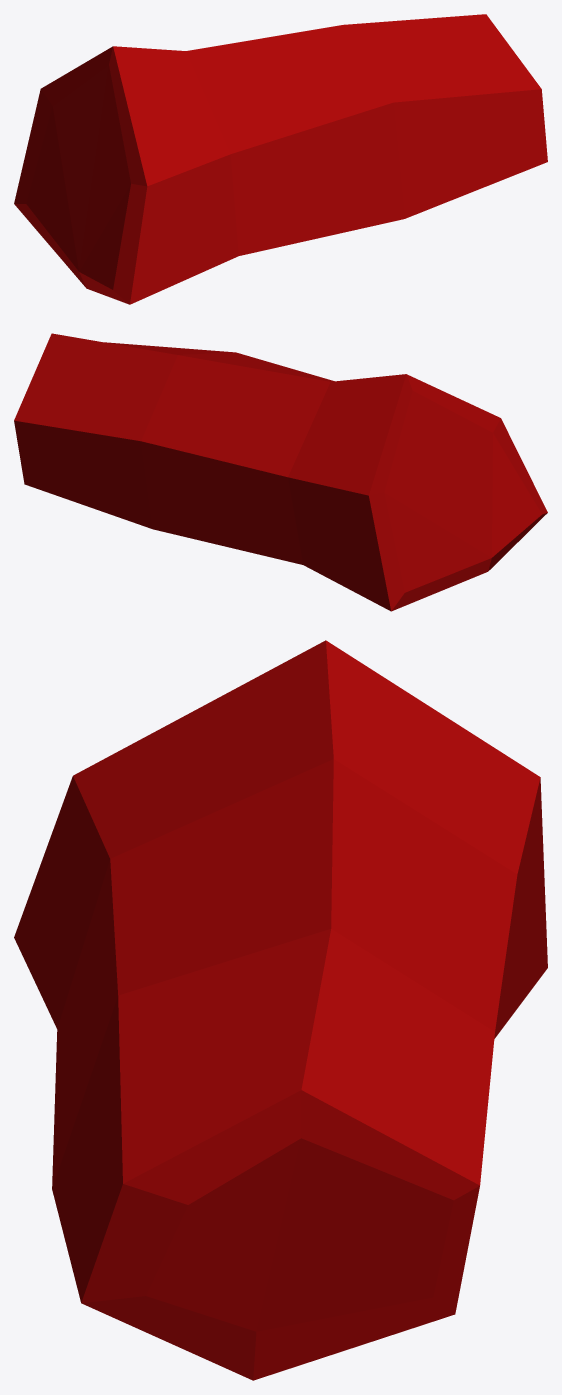
The model's file is Chr_ArmUpperLeft_Male_Static_19.fbx.
The picture shows the model from 3 angles, top to bottom: view 1: azimuth 30°, elevation 25°; view 2: azimuth 150°, elevation 25°; view 3: azimuth 270°, elevation 25°; orthographic projection. The views are drawn at different scales.
Visible parts, largest first — view 1: Chr_ArmUpperLeft_Male_19; view 2: Chr_ArmUpperLeft_Male_19; view 3: Chr_ArmUpperLeft_Male_19.
Boxes of the visible parts, x1=… form: Chr_ArmUpperLeft_Male_19: x1=14, y1=14, x2=547, y2=304; Chr_ArmUpperLeft_Male_19: x1=14, y1=333, x2=547, y2=611; Chr_ArmUpperLeft_Male_19: x1=14, y1=640, x2=547, y2=1380.
Bounding box in the file's own units: 32.55 × 14.91 × 17.36.
